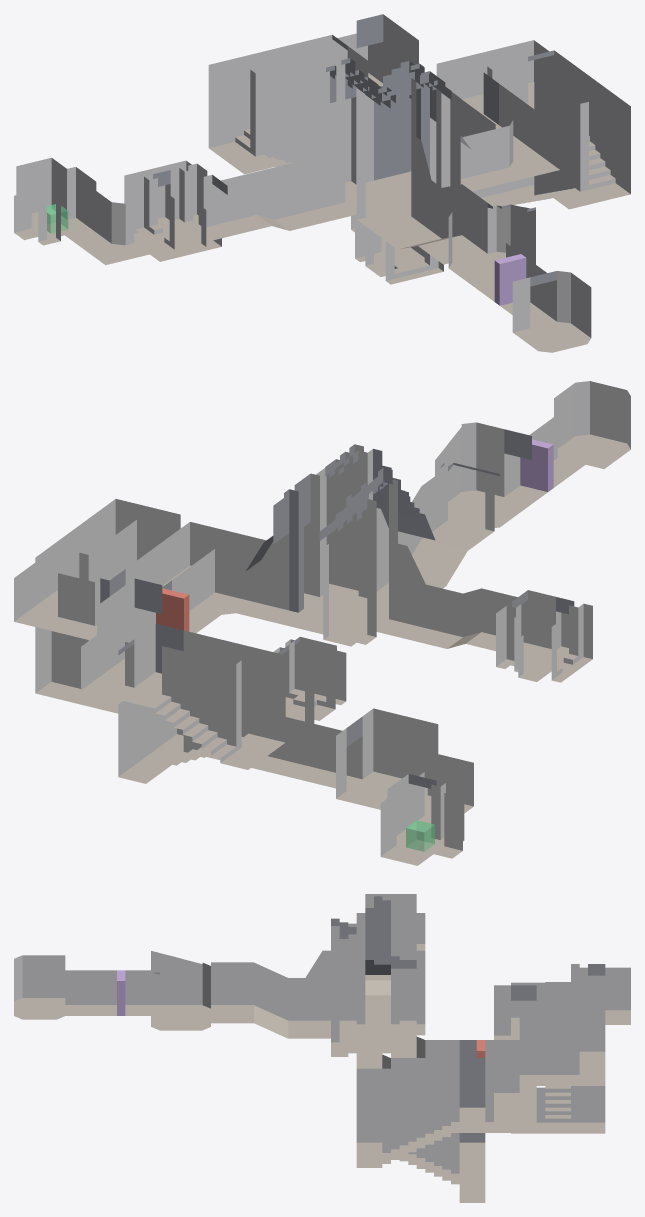
The model's file is research_03.glb.
3 renders of one model, top to bottom at view 1: azimuth 30°, elevation 25°; view 2: azimuth 150°, elevation 25°; view 3: azimuth 270°, elevation 25°, orthographic. The views are drawn at different scales.
Parts seen in each view (by area): view 1: room:6, room:7, corridor:2, room:1/cavern, corridor:0, corridor:5, room:2, room:1/portals, room:5, room:1, corridor:3, corridor:1 (+12 smaller); view 2: room:6, corridor:5, room:7, corridor:1, corridor:2, room:1, room:4, room:1/portals, room:5, room:1/cavern, corridor:3, corridor:0 (+14 smaller); view 3: room:7, room:6, corridor:1, room:1, corridor:3, room:4, corridor:2, corridor:5, corridor:4, room:5, room:1/portals, room:1/cavern (+9 smaller).
Part boxes in pixels (box(x1,y1,x2,y2)): room:6: box(208, 34, 368, 174); room:7: box(492, 50, 630, 209); corridor:2: box(436, 40, 560, 191); room:1/cavern: box(326, 58, 451, 180); corridor:0: box(212, 169, 324, 236); corridor:5: box(70, 157, 315, 265); room:2: box(16, 157, 96, 245); room:1/portals: box(336, 59, 450, 272); room:5: box(512, 271, 591, 352); room:1: box(321, 66, 460, 230); corridor:3: box(388, 181, 487, 264); corridor:1: box(332, 14, 495, 137); room:6: box(118, 623, 285, 783); corridor:5: box(155, 708, 473, 832); room:7: box(35, 499, 180, 709); corridor:1: box(81, 549, 261, 699); corridor:2: box(14, 522, 265, 640); room:1: box(273, 444, 397, 644); room:4: box(435, 422, 531, 528); room:1/portals: box(289, 449, 397, 698); room:5: box(554, 381, 630, 468); room:1/cavern: box(273, 444, 419, 612); corridor:3: box(398, 467, 494, 588); corridor:0: box(410, 584, 527, 651); room:7: box(356, 1068, 485, 1202); room:6: box(545, 982, 605, 1133); corridor:1: box(416, 1016, 605, 1085); room:1: box(331, 912, 416, 1056); corridor:3: box(211, 962, 305, 1038); room:4: box(151, 951, 210, 1030); corridor:2: box(356, 1054, 519, 1132); corridor:5: box(494, 982, 545, 1133); corridor:4: box(65, 970, 150, 1015); room:5: box(14, 955, 65, 1019); room:1/portals: box(331, 919, 399, 1042); room:1/cavern: box(331, 896, 416, 968).
Bounding box in the file's own units: 53 × 25 × 72.
